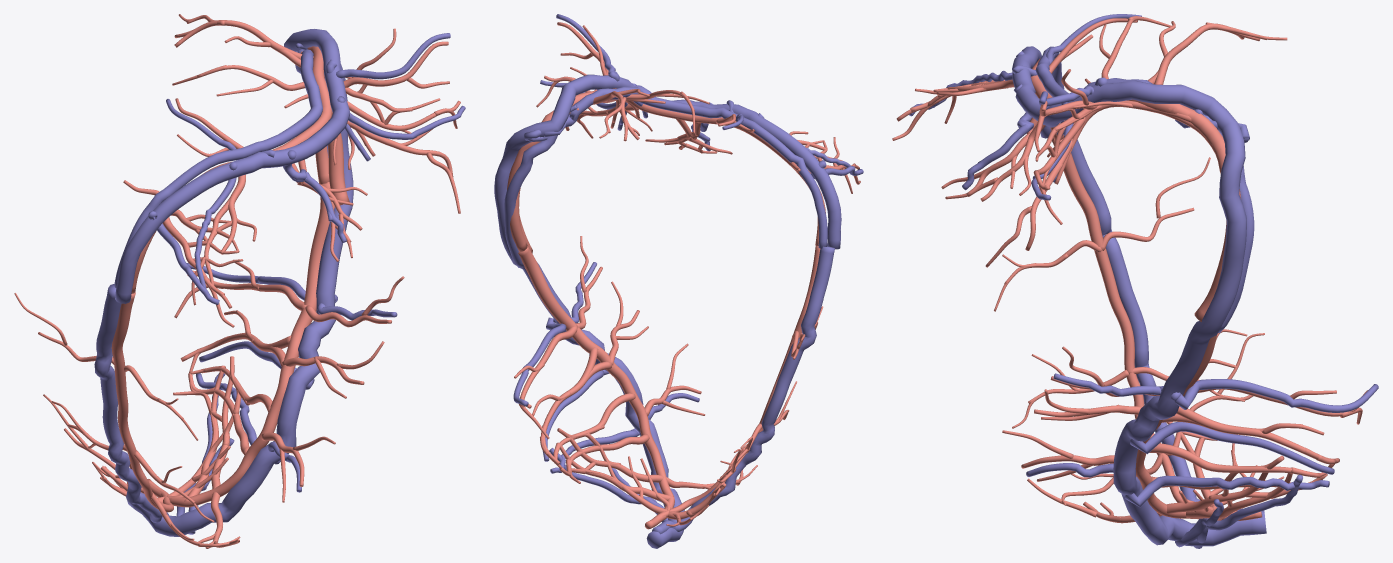
Rendered from vessels_61.glb.
The picture shows the model from 3 angles, left to right: view 1: azimuth 30°, elevation 25°; view 2: azimuth 150°, elevation 25°; view 3: azimuth 270°, elevation 25°; orthographic projection. The views are drawn at different scales.
Visible parts, largest first — view 1: Renderer Node; view 2: Renderer Node; view 3: Renderer Node.
Part boxes in pixels (x1=…): Renderer Node: x1=14, y1=14, x2=465, y2=548; Renderer Node: x1=494, y1=14, x2=863, y2=548; Renderer Node: x1=892, y1=14, x2=1378, y2=548.
Size of the model in its own units: 95.01 by 123 by 95.54.
